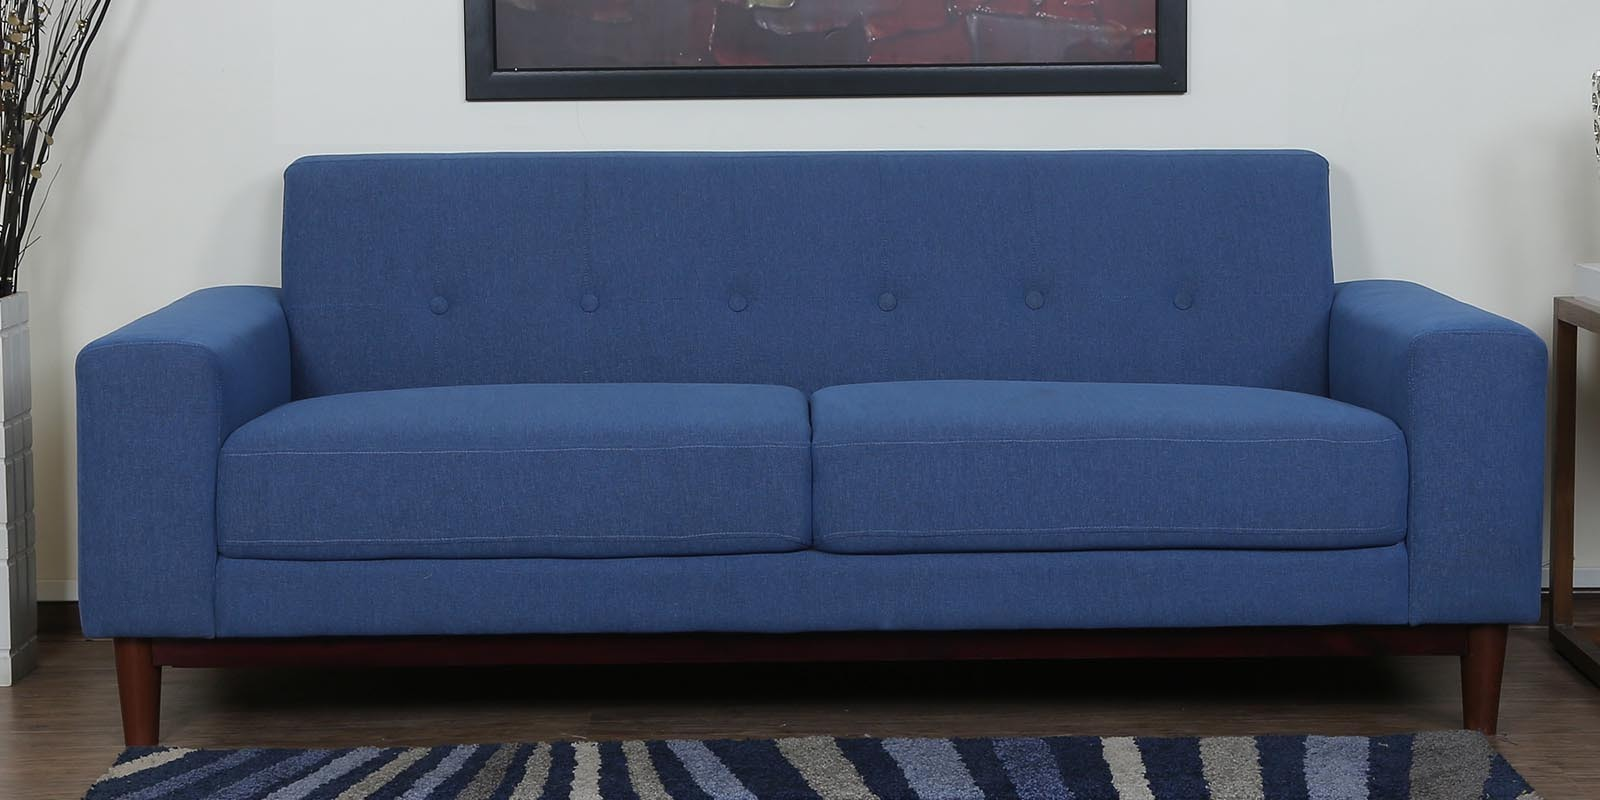Cordoba Three Seater Sofa in Denim Blue Colour by CasaCraft: (61, 133, 1565, 738)
